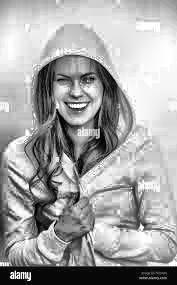happy: (34, 35, 119, 159)
